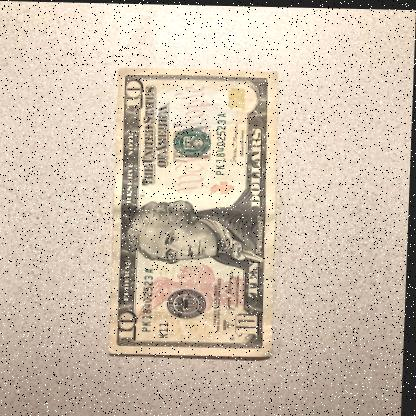ten-front: (109, 65, 283, 356)
